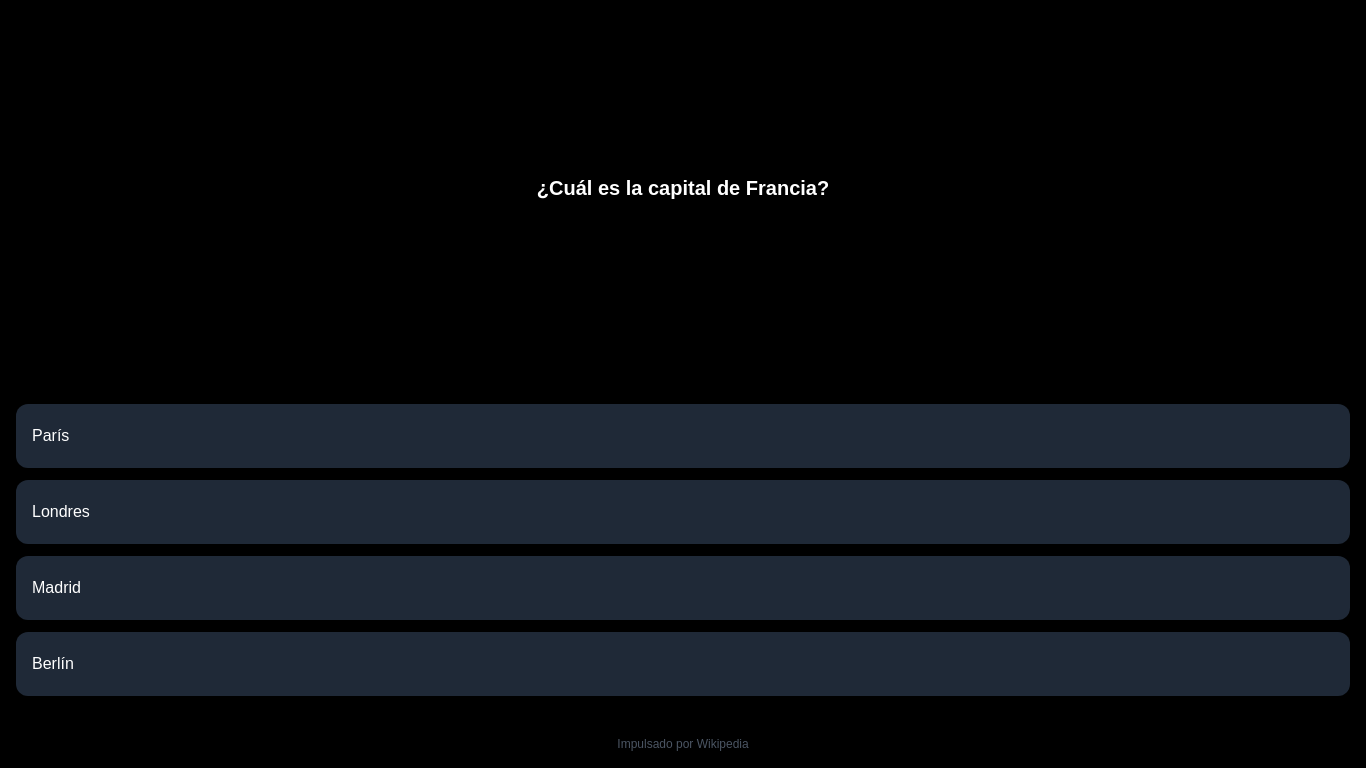
Test case: GameScreen Component › should show feedback when correct option is clicked
Click the button "París": (51, 436) [16, 404, 1350, 468]
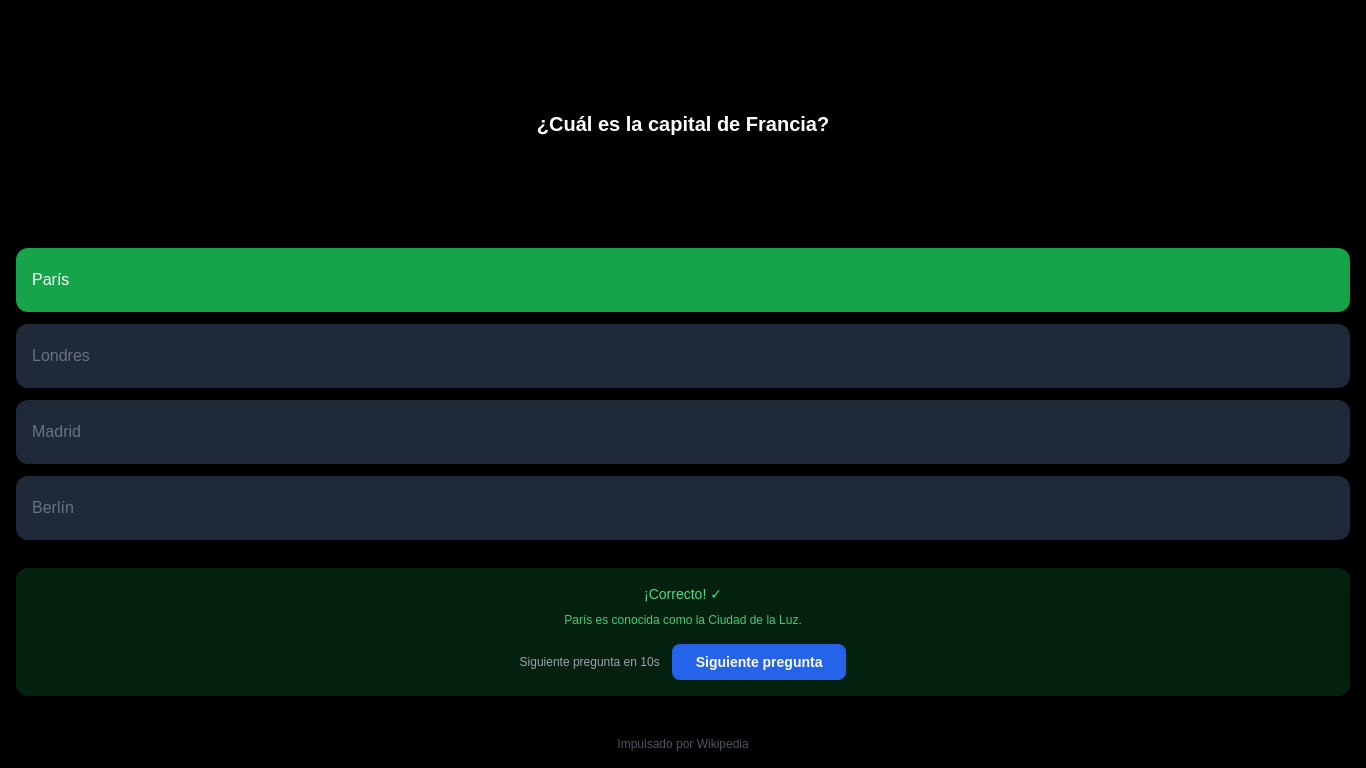
Now the text "¡Correcto! ✓" is shown, box [644, 586, 722, 602]
Now the text "París es conocida como la Ciudad de la Luz." is shown, box [564, 613, 802, 627]
Now the button "Siguiente pregunta" is shown, box [672, 644, 846, 680]
